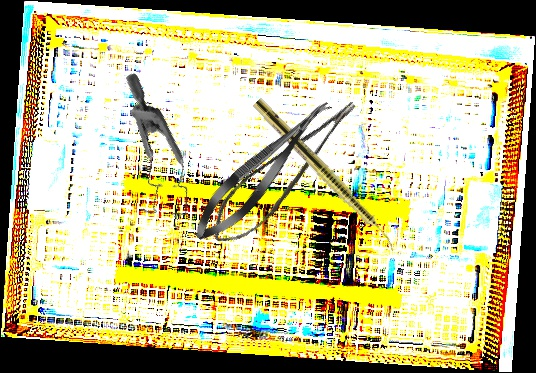Handpiece: (250, 96, 402, 254)
Micro Scissor: (196, 95, 379, 255), (183, 89, 342, 251)
Speculum: (66, 70, 234, 236)
